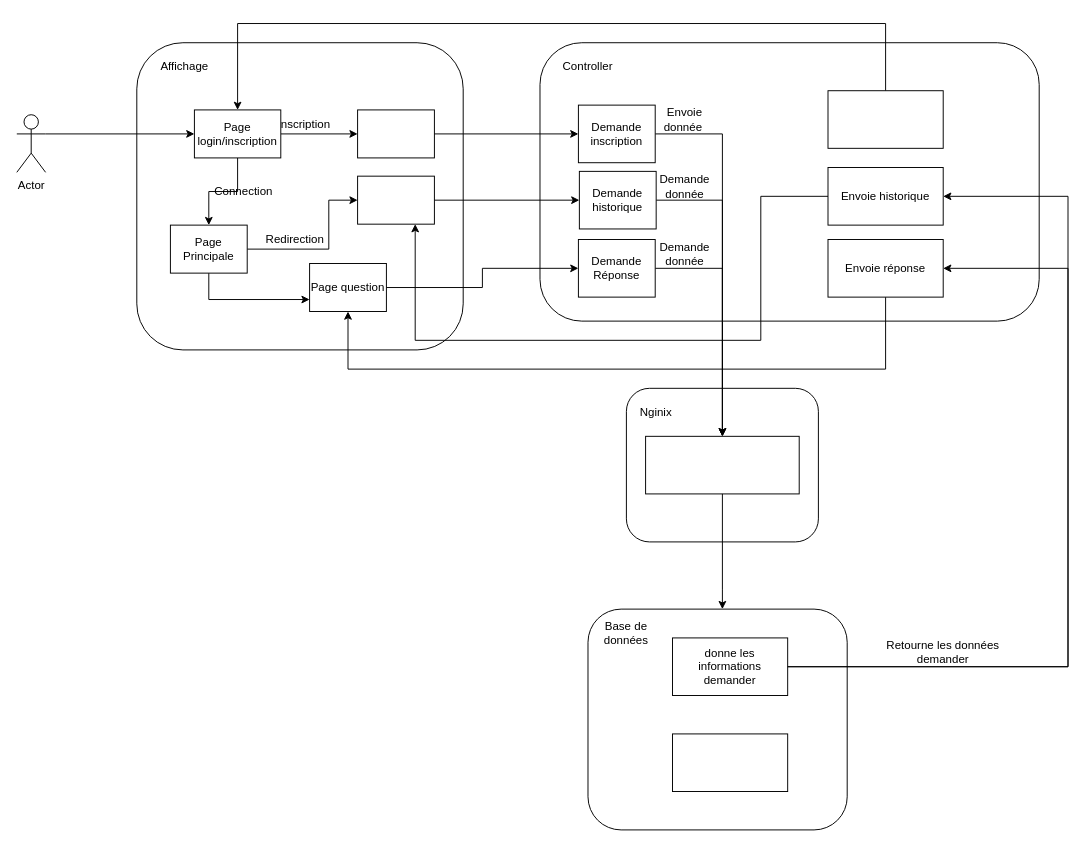
Some shapes in this 1092 by 847 pixel diagram are drawn without their labels. The shapes that lost their labels are listed below. From the top down, each one's box as (x1, y1, x2, y2) in pixels, then its label:
(357, 109, 434, 158): Page Inscription
(827, 90, 943, 148): Validation inscription
(357, 175, 434, 224): Page historique
(645, 435, 799, 494): inspecter/filtrer/rediriger
(672, 733, 788, 792): Enregistre les données reçus
